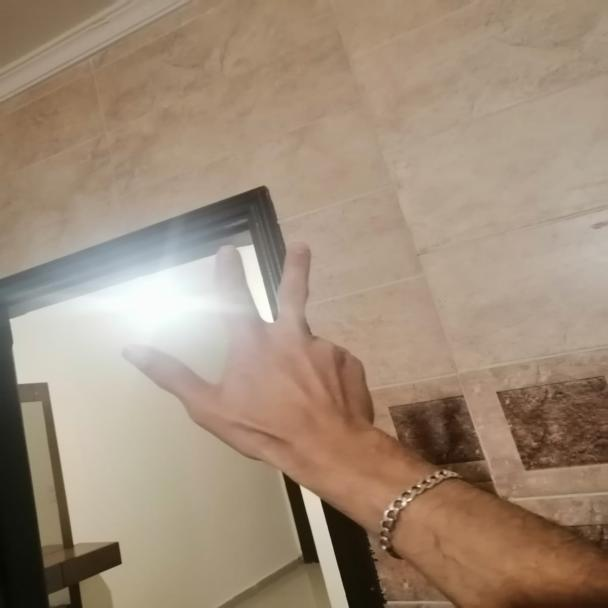three: (102, 241, 390, 458)
